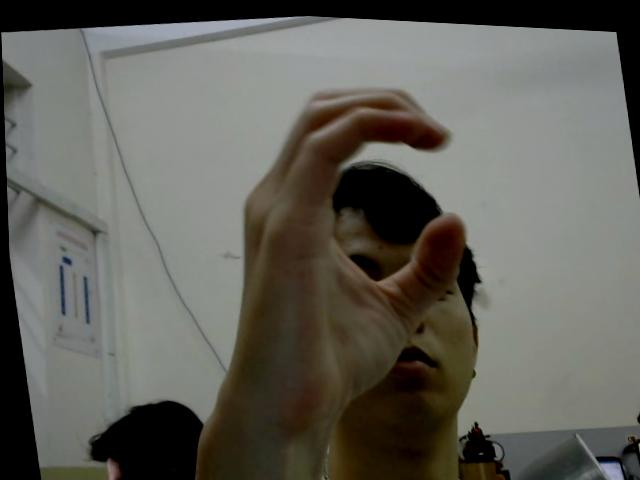C: (202, 64, 490, 426)
